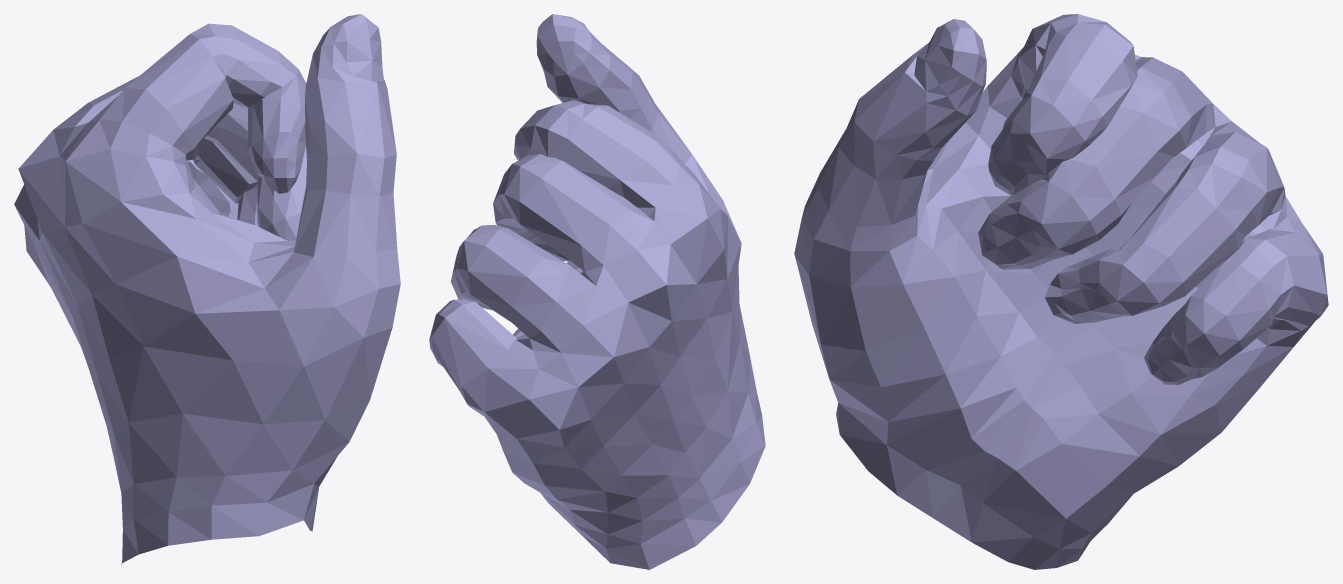
The model's file is frame_0032_source_000032_hand.glb.
The picture shows the model from 3 angles, left to right: view 1: azimuth 30°, elevation 25°; view 2: azimuth 150°, elevation 25°; view 3: azimuth 270°, elevation 25°; orthographic projection. The views are drawn at different scales.
Parts seen in each view (by area): view 1: world; view 2: world; view 3: world.
Part boxes in pixels (bbox=[...]): world: bbox=[14, 14, 400, 565]; world: bbox=[429, 14, 765, 569]; world: bbox=[794, 14, 1328, 569].
Size of the model in its own units: 0.06 by 0.1234 by 0.1002.
